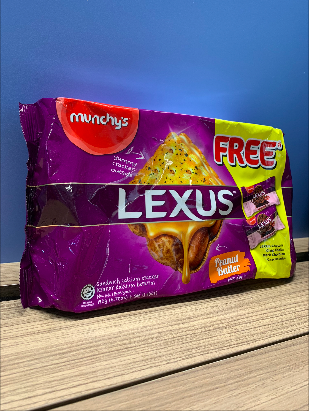Cookies_200-299g: (57, 113, 288, 300)
